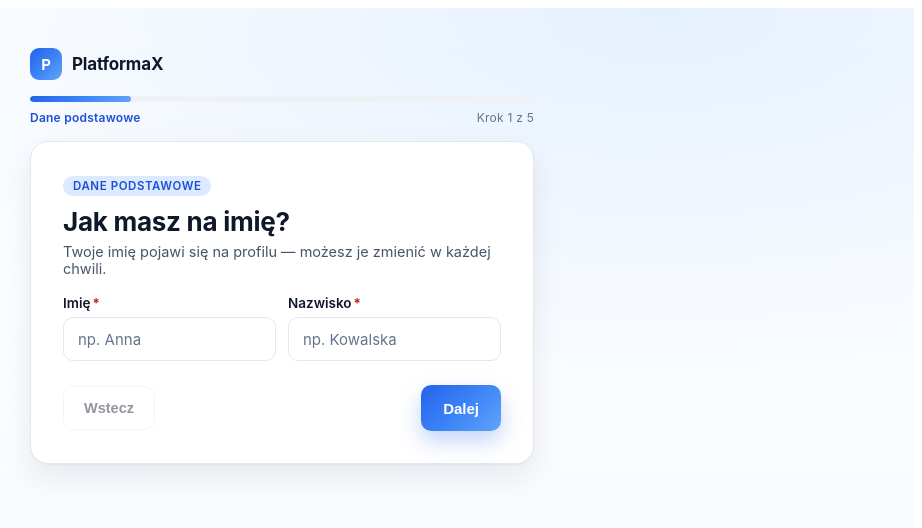
OnboardingFlow › blocks advancing without first name + last name
Click the button "Dalej" at (461, 408), box [421, 385, 501, 431]
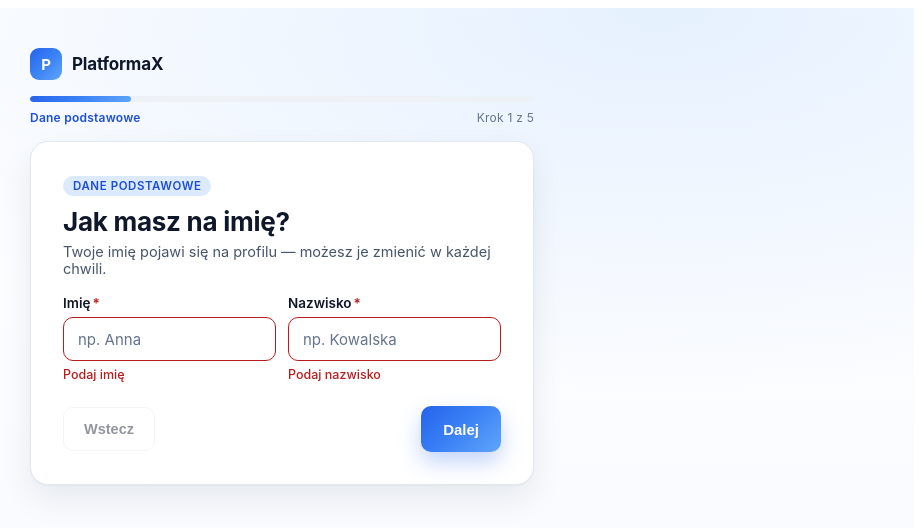
Expected: the text "Podaj imię" is shown, [63, 367, 124, 382]
